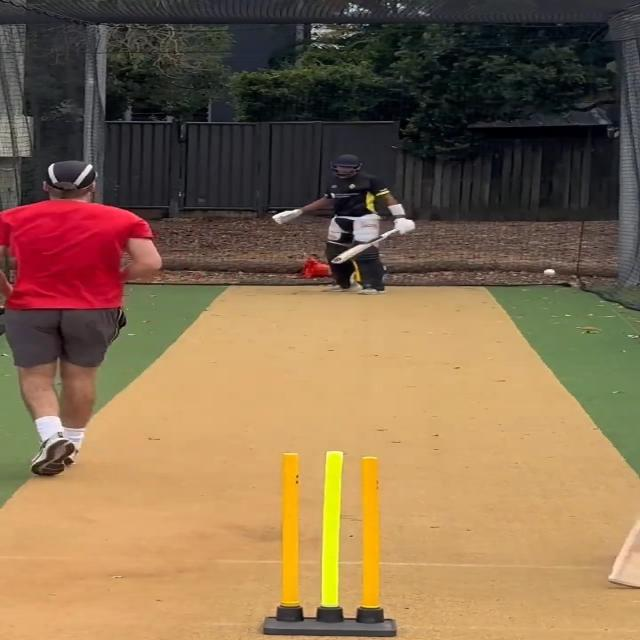ball: (542, 268, 556, 277)
stump: (262, 451, 399, 637)
